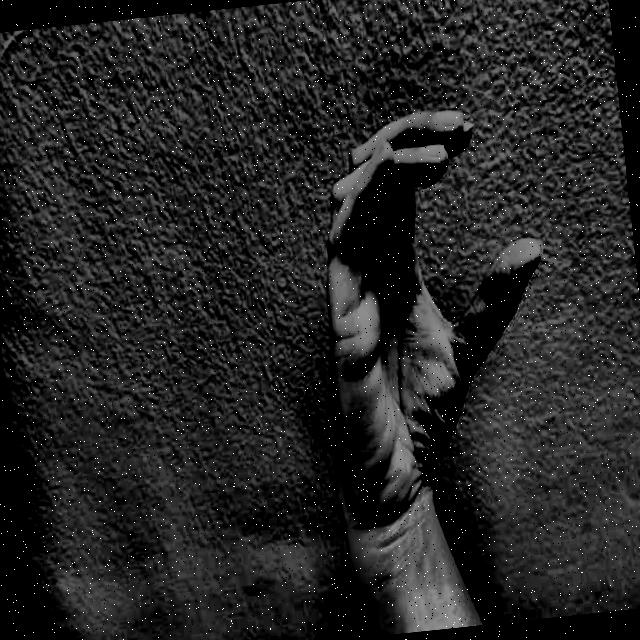A: (275, 70, 591, 564)
